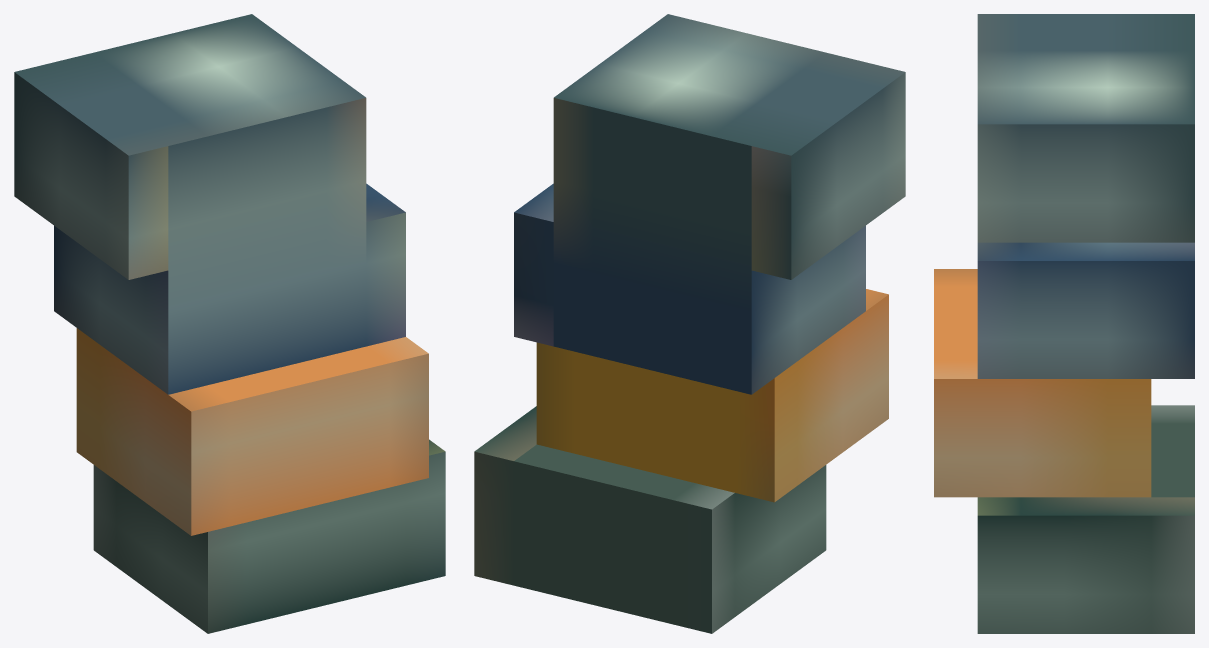
Rendered from BookStackTaller_B_02.obj.
3 views of the same model, side by side, from view 1: azimuth 30°, elevation 25°; view 2: azimuth 150°, elevation 25°; view 3: azimuth 270°, elevation 25° (orthographic). The views are drawn at different scales.
Visible parts, largest first — view 1: BookStackTaller_B_02; view 2: BookStackTaller_B_02; view 3: BookStackTaller_B_02.
Boxes of the visible parts, x1,y1,x2,y2 form: BookStackTaller_B_02: [14, 14, 445, 633]; BookStackTaller_B_02: [474, 14, 905, 633]; BookStackTaller_B_02: [934, 14, 1194, 633].
Bounding box in the file's own units: 0.4 × 0.6 × 0.3.
